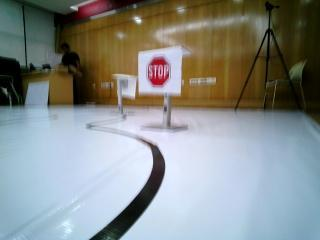stop: (139, 52, 180, 92)
